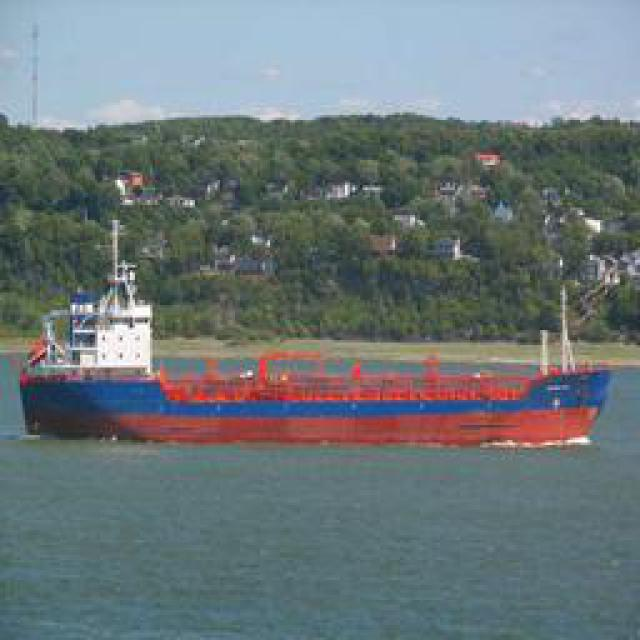Ship: (24, 231, 614, 451)
